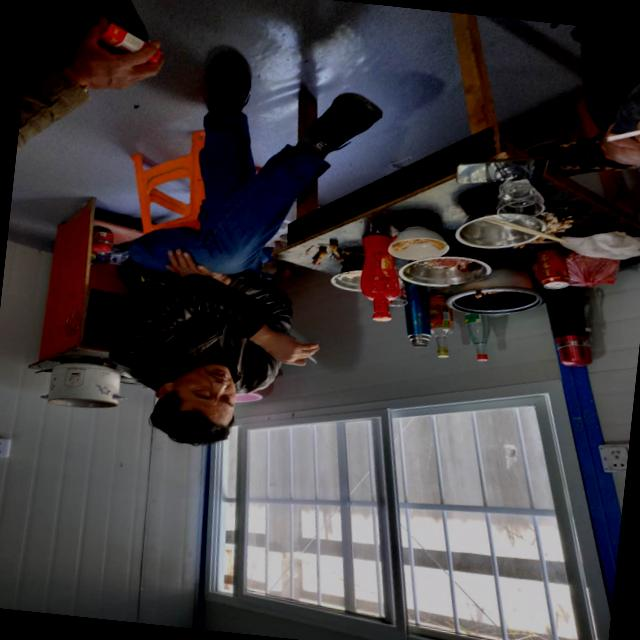cigarette: (302, 355, 320, 367)
